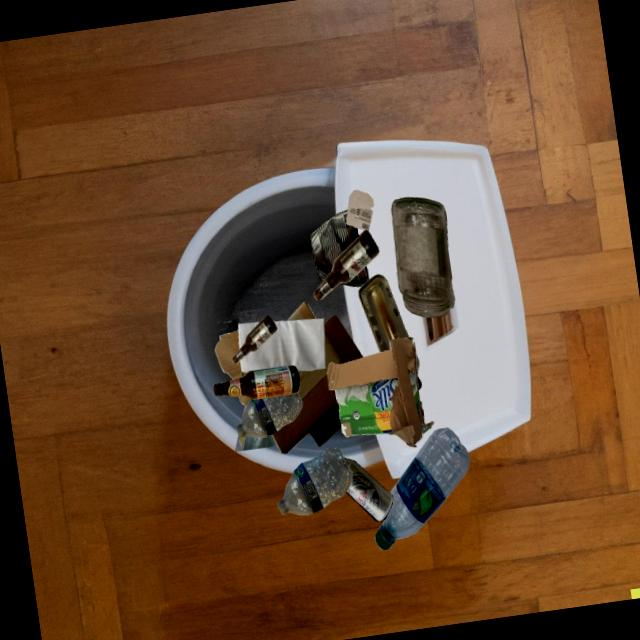cardboard: (327, 337, 434, 447), (242, 319, 311, 422), (311, 315, 363, 446), (227, 321, 277, 398), (271, 422, 307, 453), (215, 330, 239, 373)
glass: (391, 197, 455, 318), (314, 230, 379, 300), (359, 274, 409, 338), (213, 365, 300, 400), (232, 314, 277, 364), (236, 434, 275, 452)
metal: (310, 210, 359, 281), (344, 457, 393, 522)
paper: (240, 319, 326, 372), (346, 190, 373, 231)
plastic: (375, 428, 470, 550), (277, 448, 353, 515), (236, 393, 303, 438)
